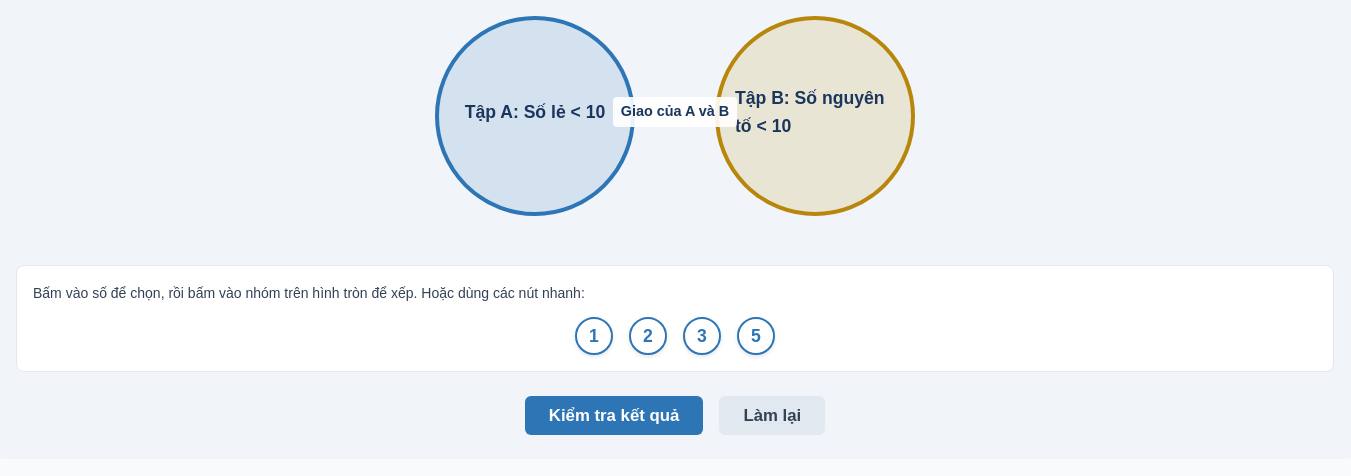
VennDiagram Component › selects an element in the pool and moves it by clicking a diagram zone
Click element 2 in pool
Step 1. Click the button with test id "badge-pool-2" → x=648, y=336, box [629,317,667,355]
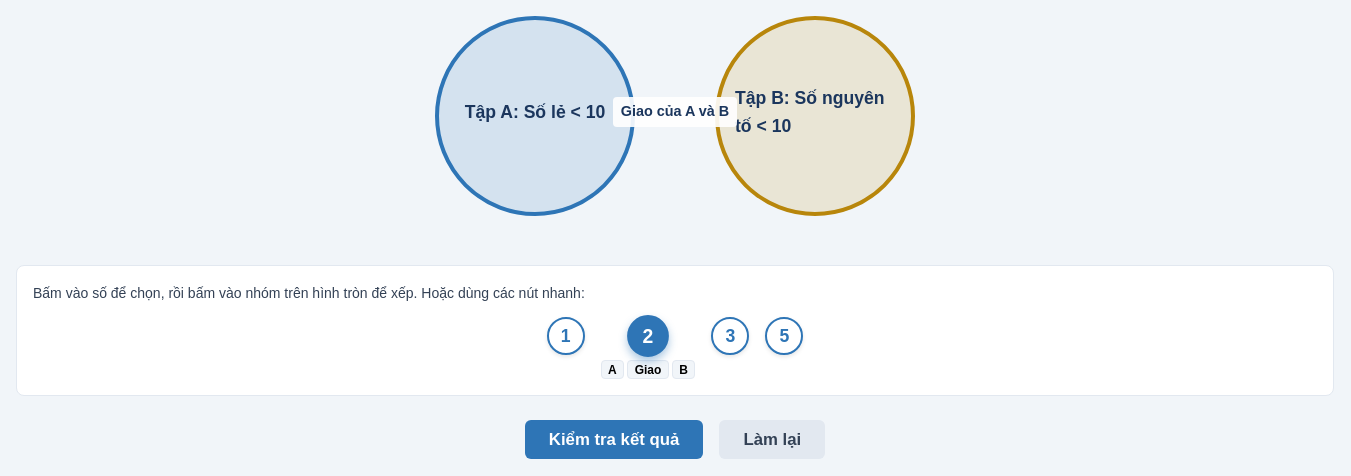
Click zone B
Step 2. Click the button with test id "zone-b" → x=815, y=116, box [715,16,915,216]
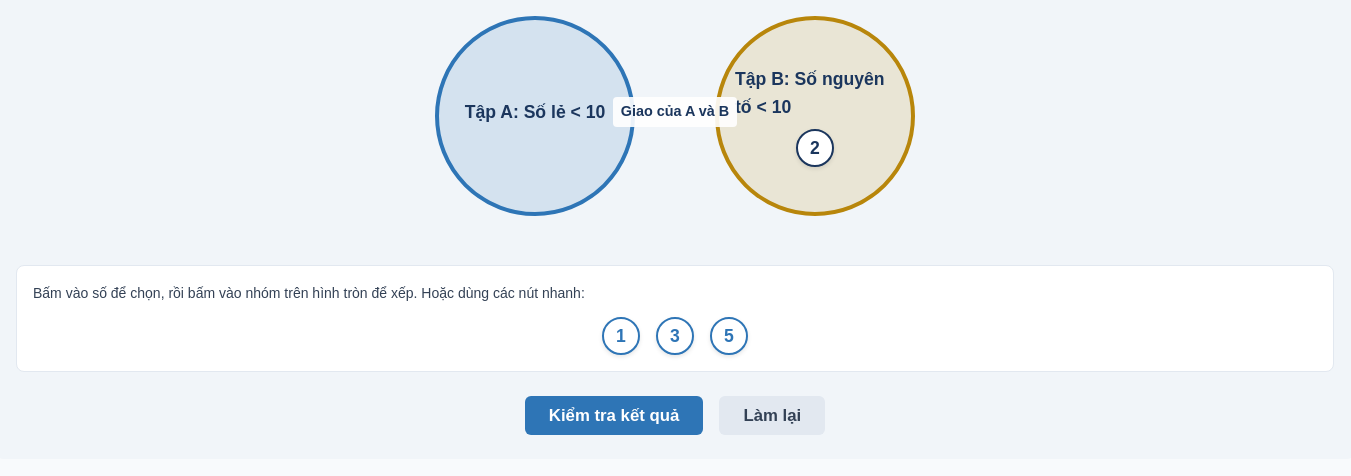
Check: the button with test id "badge-b-2" is shown, box [796,129,834,167]
Check: the button with test id "badge-pool-2" is gone
